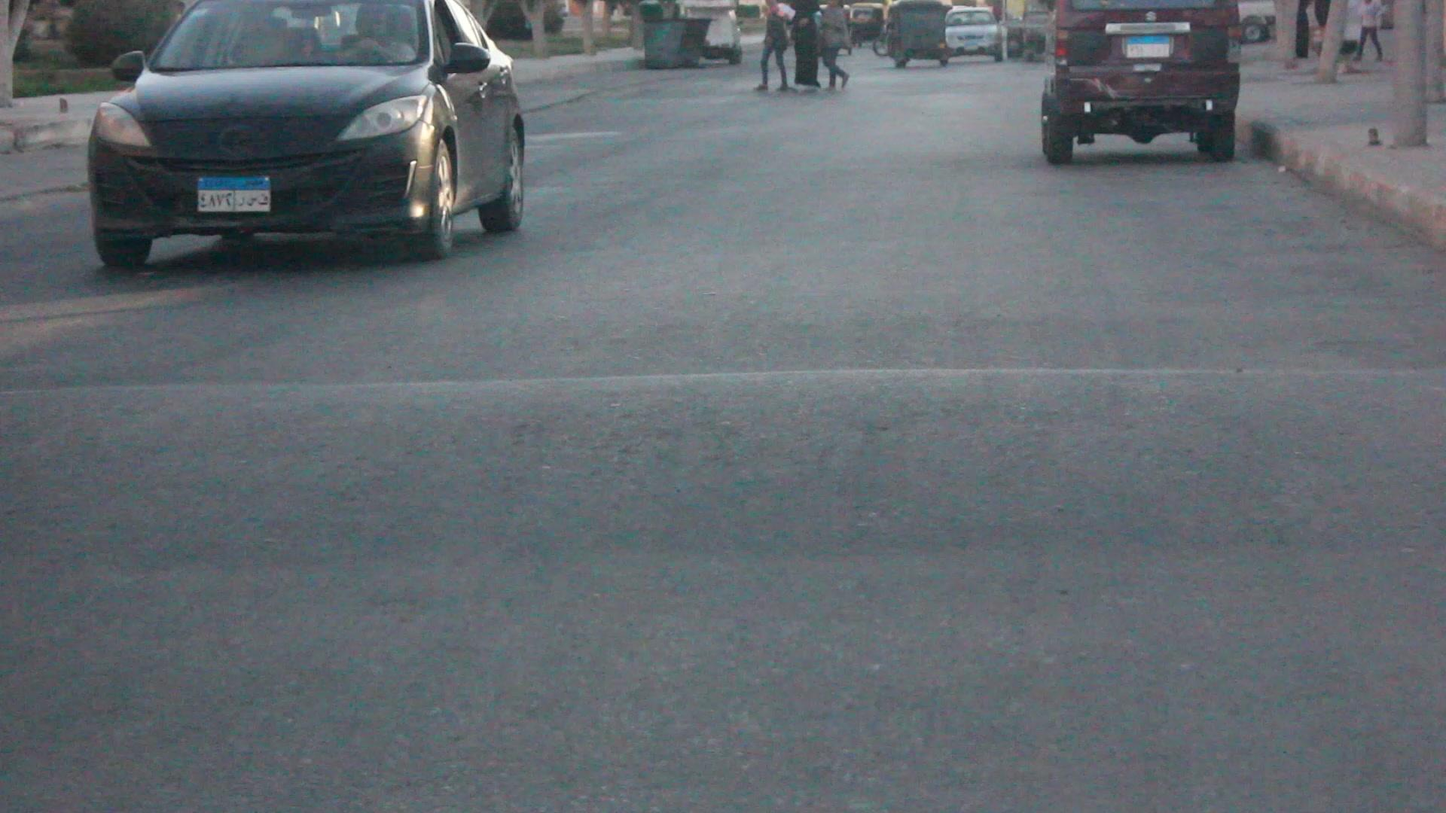Bump: (4, 378, 1446, 591)
